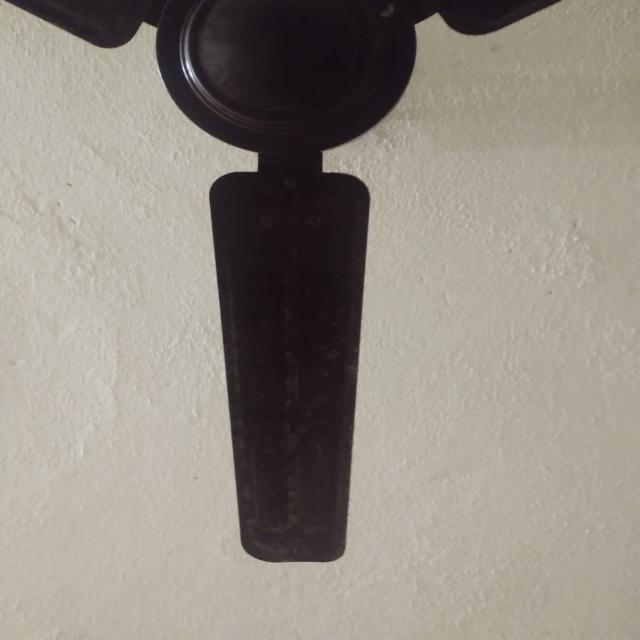fan_off: (8, 3, 576, 561)
